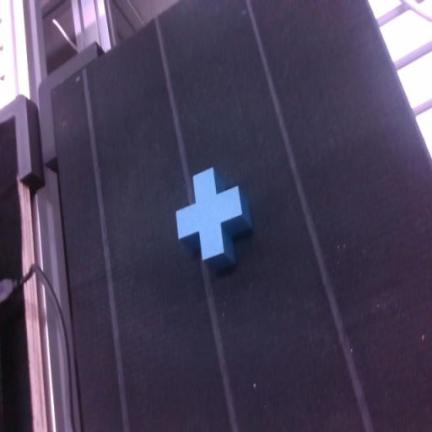cross: (177, 168, 252, 269)
